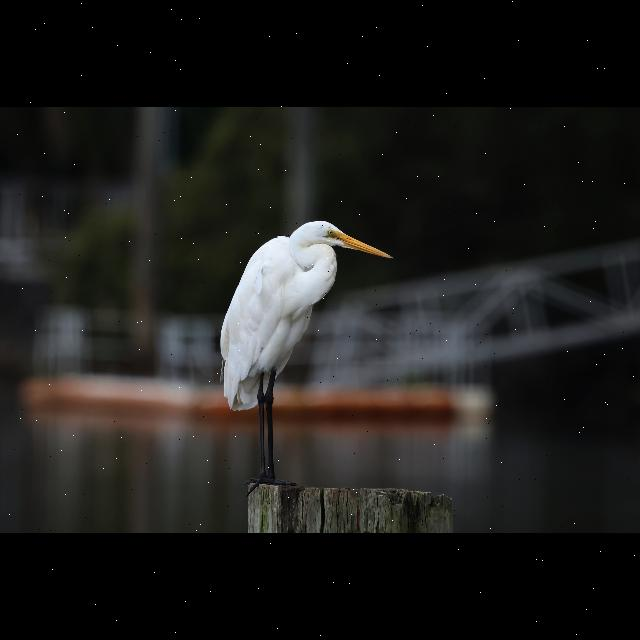egret: (200, 214, 402, 494)
